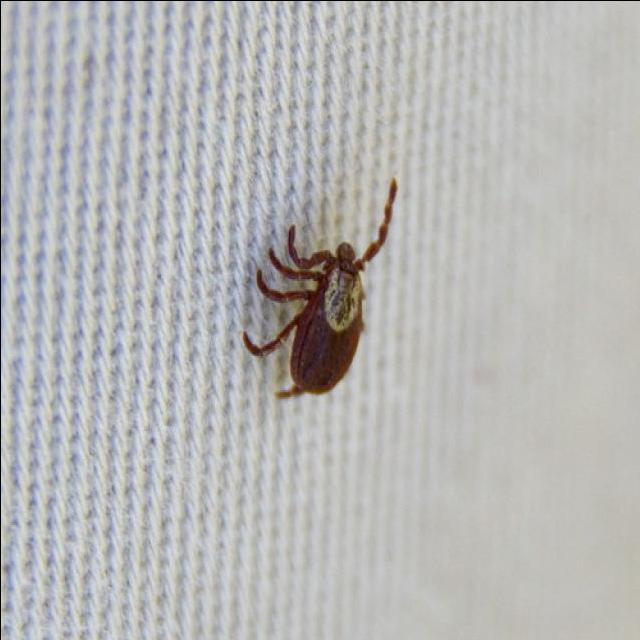Dermacentor Reticulatus-F: (244, 186, 397, 394)
